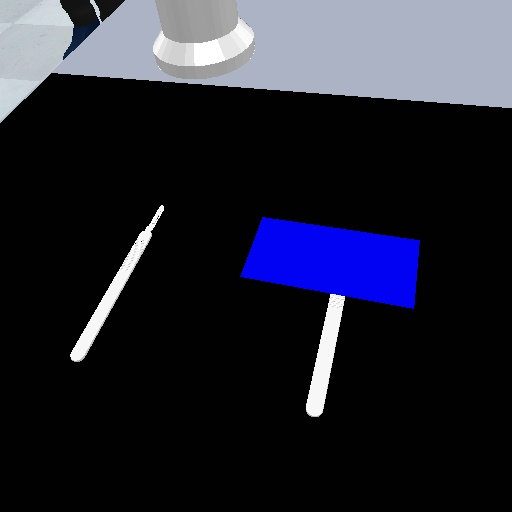bisturi: (67, 200, 167, 365), (300, 291, 347, 419)
